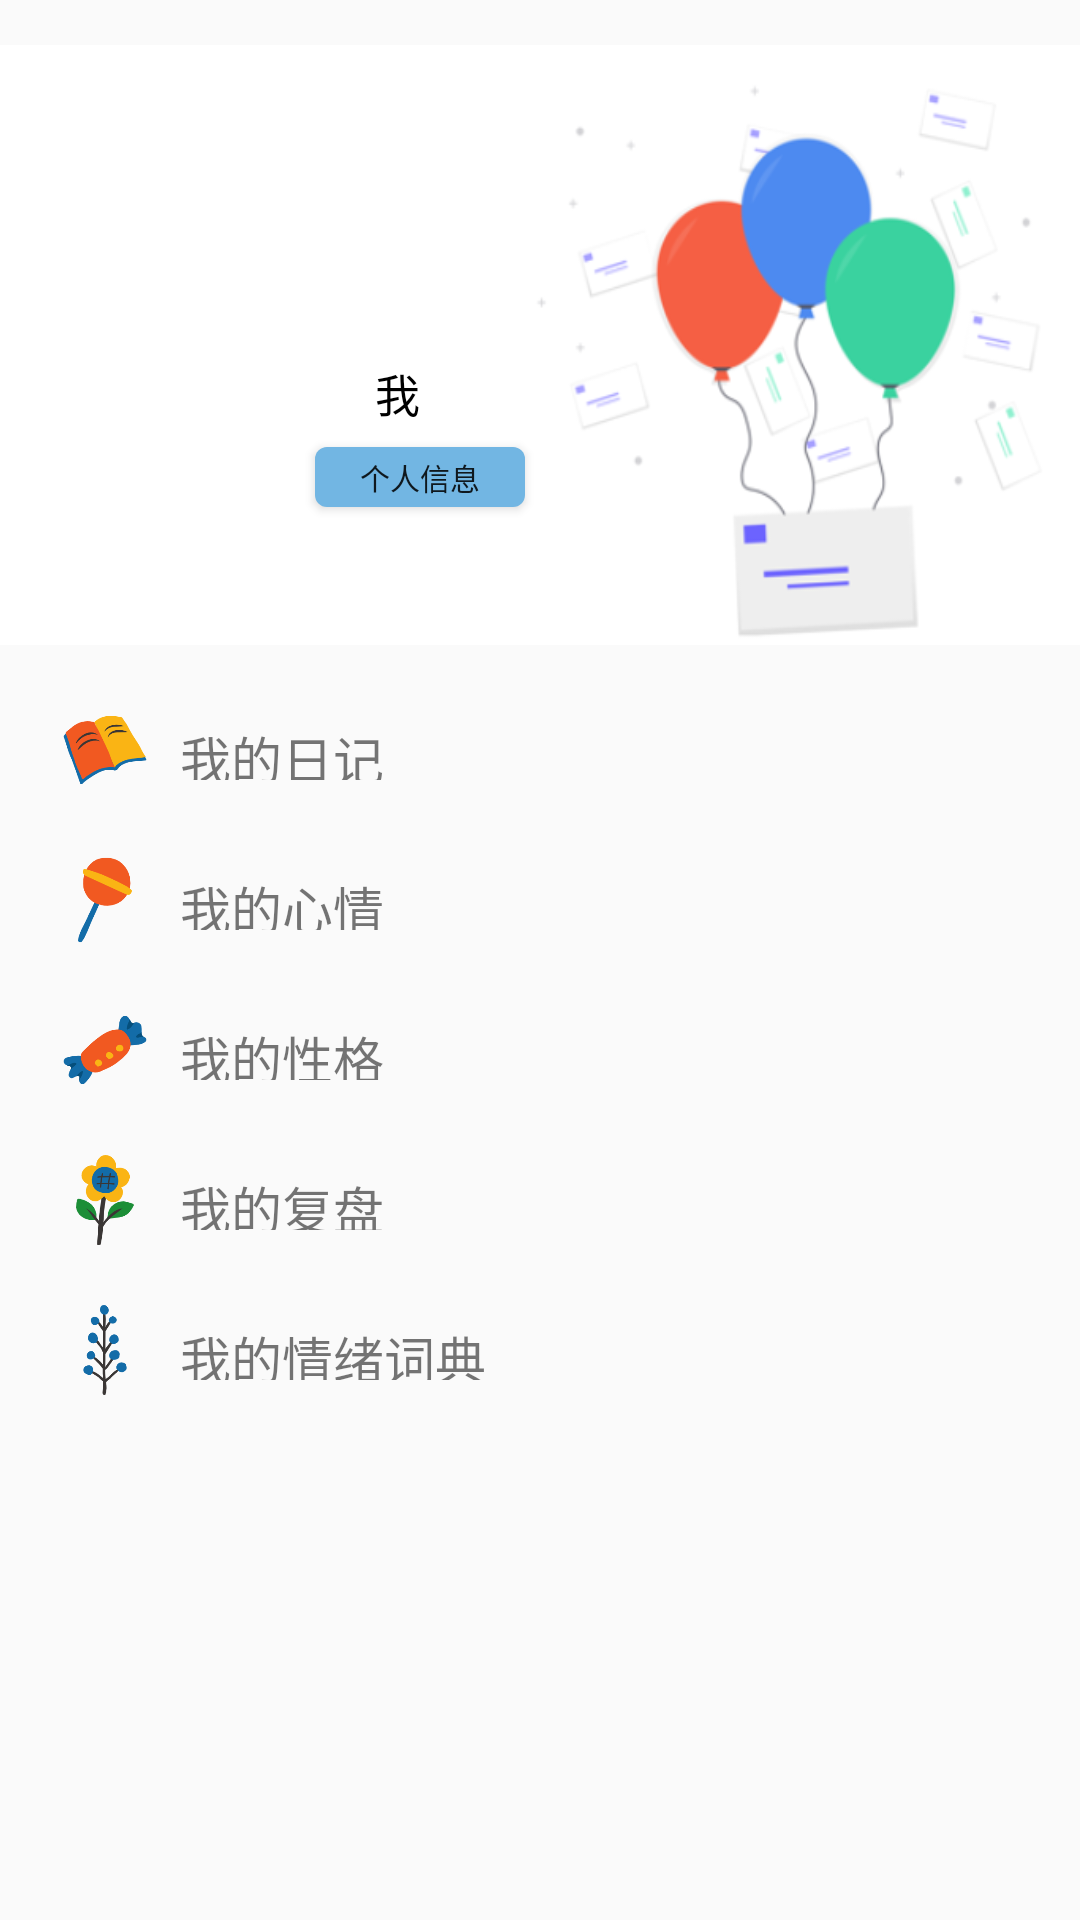

Point at icon controls on the screen. Image size 1080w x 1920h, points as point (x, y).
berry: point (105, 1350)
book: point (105, 750)
candy: point (105, 1050)
lollipop: point (105, 900)
sunflower: point (105, 1200)
